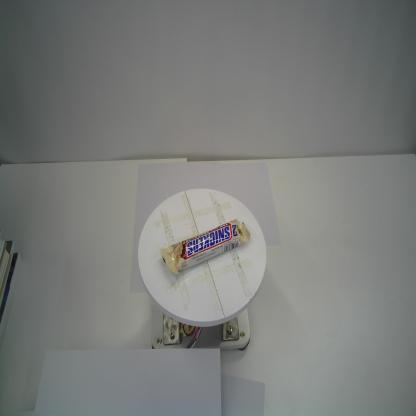Chocolate: (158, 217, 252, 277)
